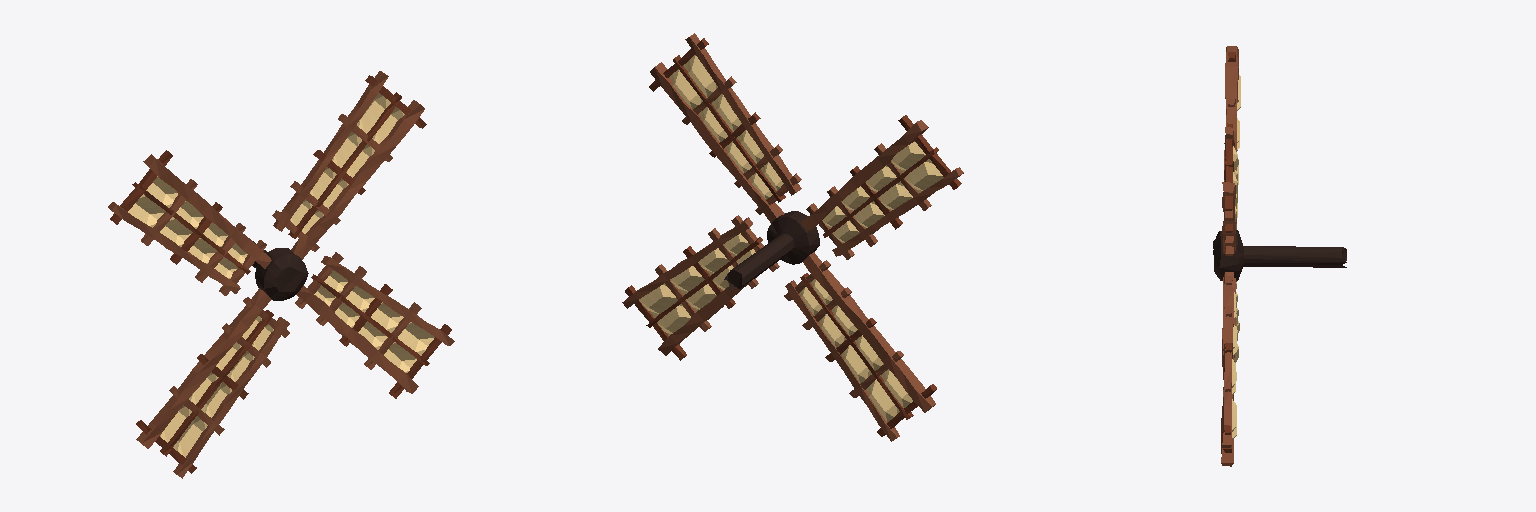
3 views of the same model, side by side, from view 1: azimuth 30°, elevation 25°; view 2: azimuth 150°, elevation 25°; view 3: azimuth 270°, elevation 25° (orthographic).
Visible parts, largest first — view 1: Object_35; view 2: Object_35; view 3: Object_35.
Boxes of the visible parts, x1,y1,x2,y2 form: Object_35: [108, 71, 454, 478]; Object_35: [622, 33, 963, 441]; Object_35: [1213, 46, 1346, 466].
Bounding box in the file's own units: 5.1 × 5.1 × 1.75.
1 materials, 1 textured.